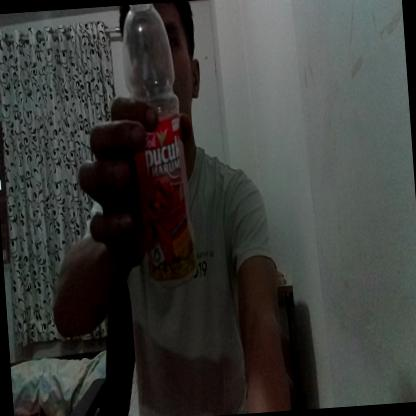plastic_bottles: (116, 2, 198, 292)
